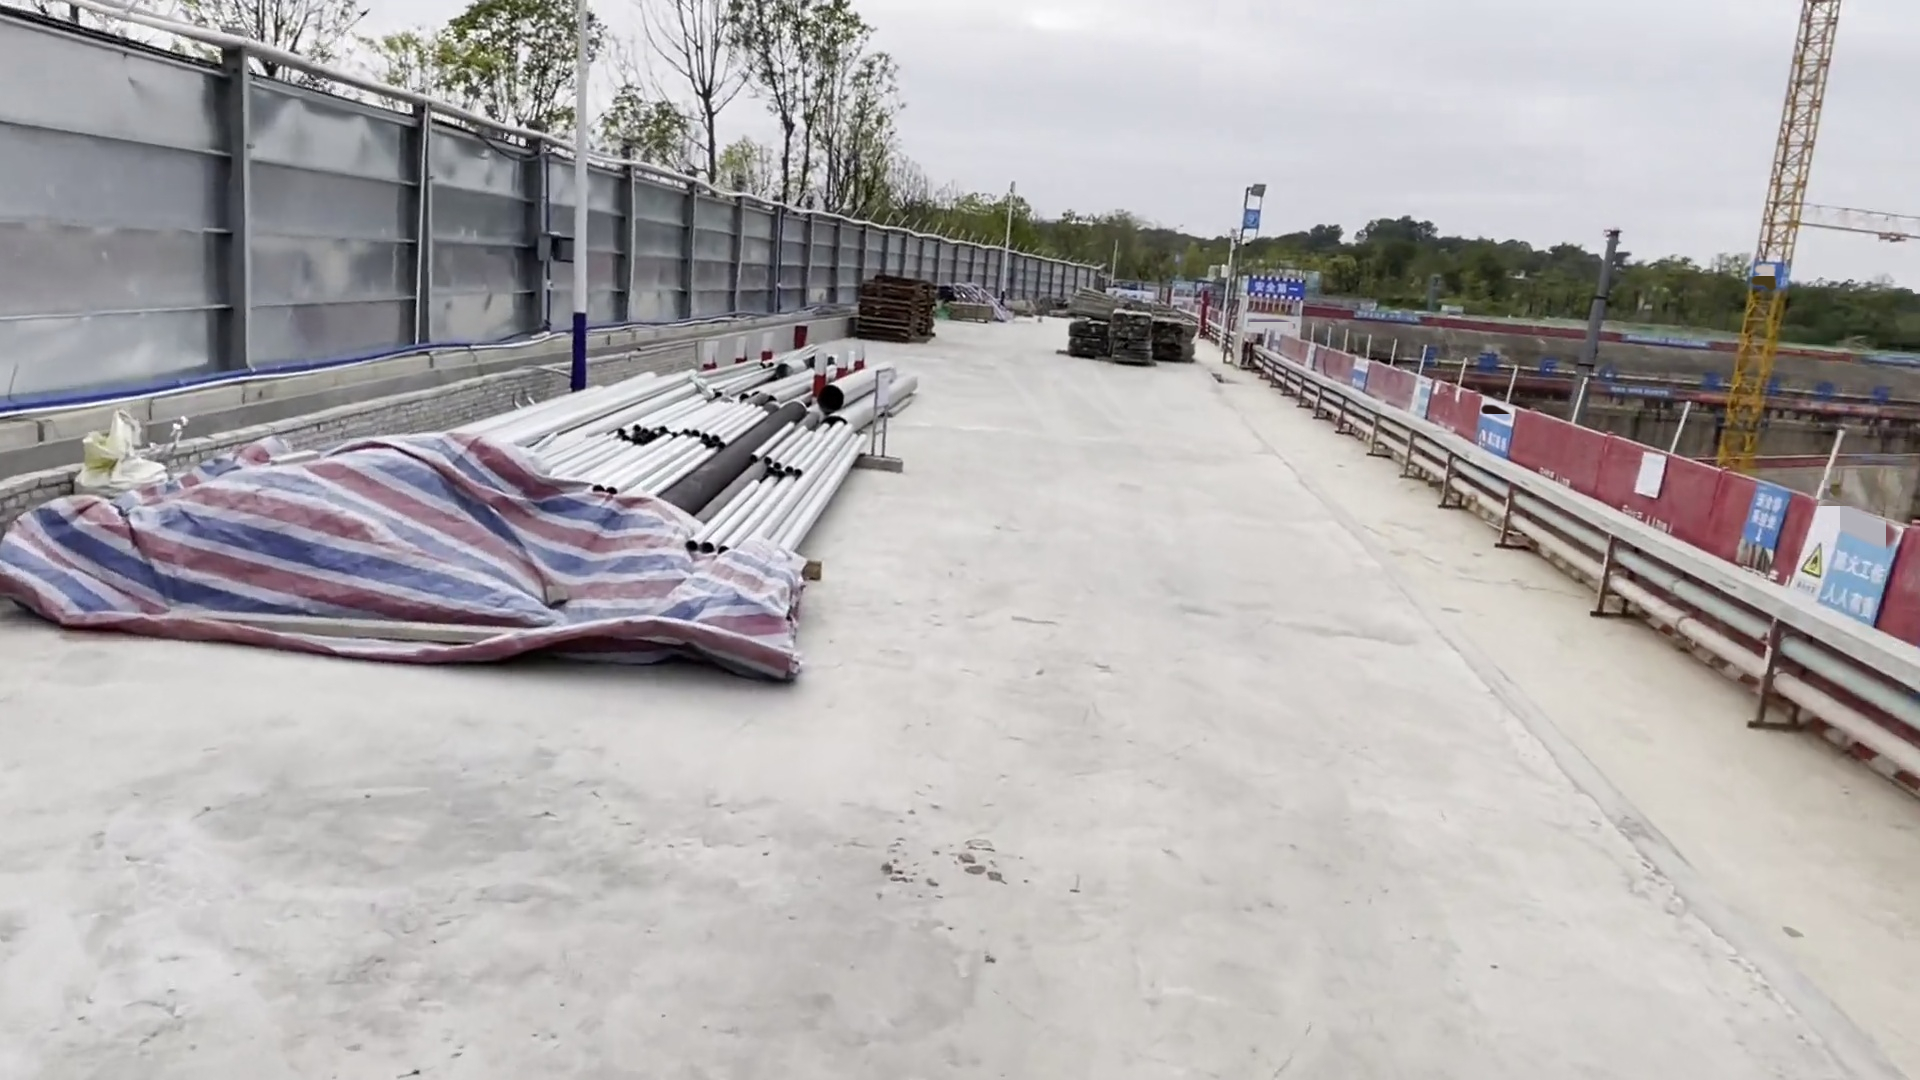brick: (280, 372, 535, 454), (3, 468, 71, 520)
fence: (1422, 382, 1726, 556), (1288, 342, 1415, 409)
slogan: (1792, 500, 1890, 616), (1743, 484, 1787, 545), (1478, 393, 1514, 454), (1793, 398, 1879, 414), (1242, 269, 1299, 293), (1611, 378, 1669, 396), (1358, 309, 1422, 322), (1621, 338, 1717, 343), (1353, 357, 1369, 388), (1873, 357, 1920, 367)
